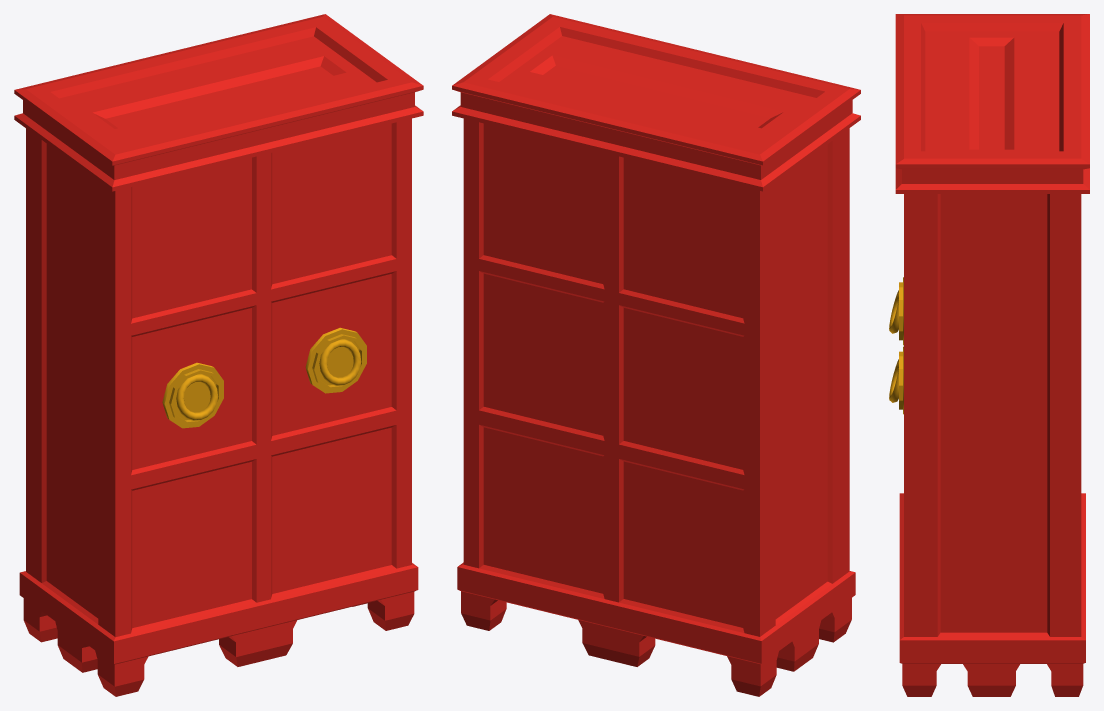
File: Wardrobe_1_JBischer.fbx
3 renders of one model, left to right at view 1: azimuth 30°, elevation 25°; view 2: azimuth 150°, elevation 25°; view 3: azimuth 270°, elevation 25°, orthographic.
Visible parts, largest first — view 1: Cube; view 2: Cube; view 3: Cube.
Part boxes in pixels (x1,y1,x2,y2): Cube: (14, 14, 423, 696); Cube: (452, 14, 860, 696); Cube: (889, 14, 1089, 696).
Size of the model in its own units: 401 by 670 by 226.
